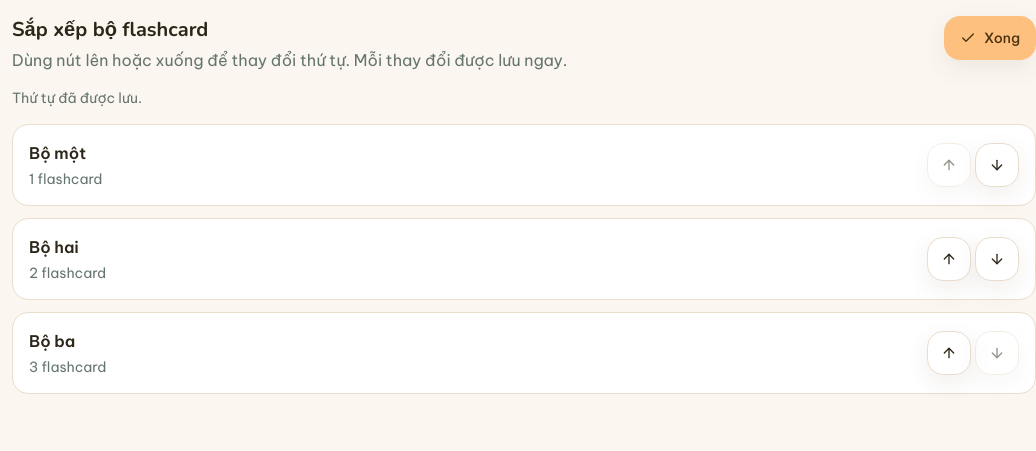
Test case: SetReorderList › restores the previous order and explains a recoverable save failure
Click the button named "Đưa Bộ hai lên": point(949, 259) x1=927 y1=237 x2=971 y2=281
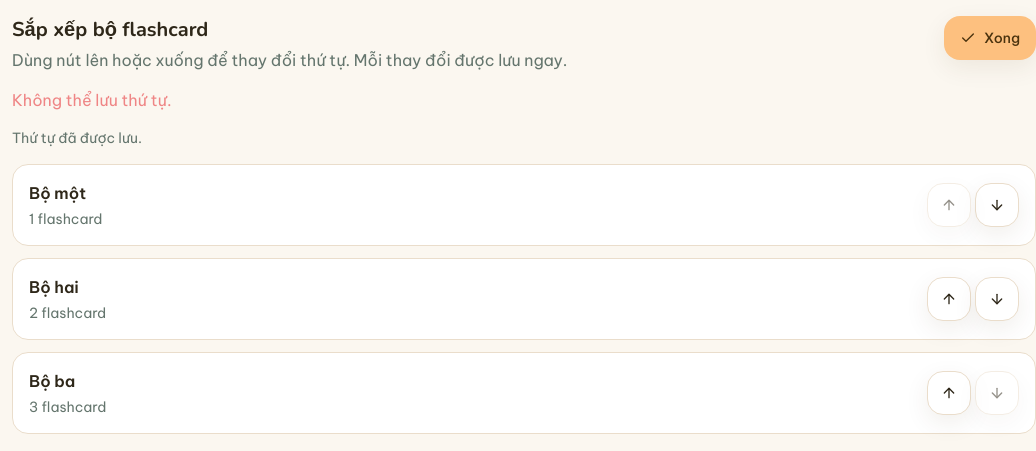
Expected: the message reads "Không thể lưu thứ tự.", x1=12 y1=90 x2=172 y2=110
